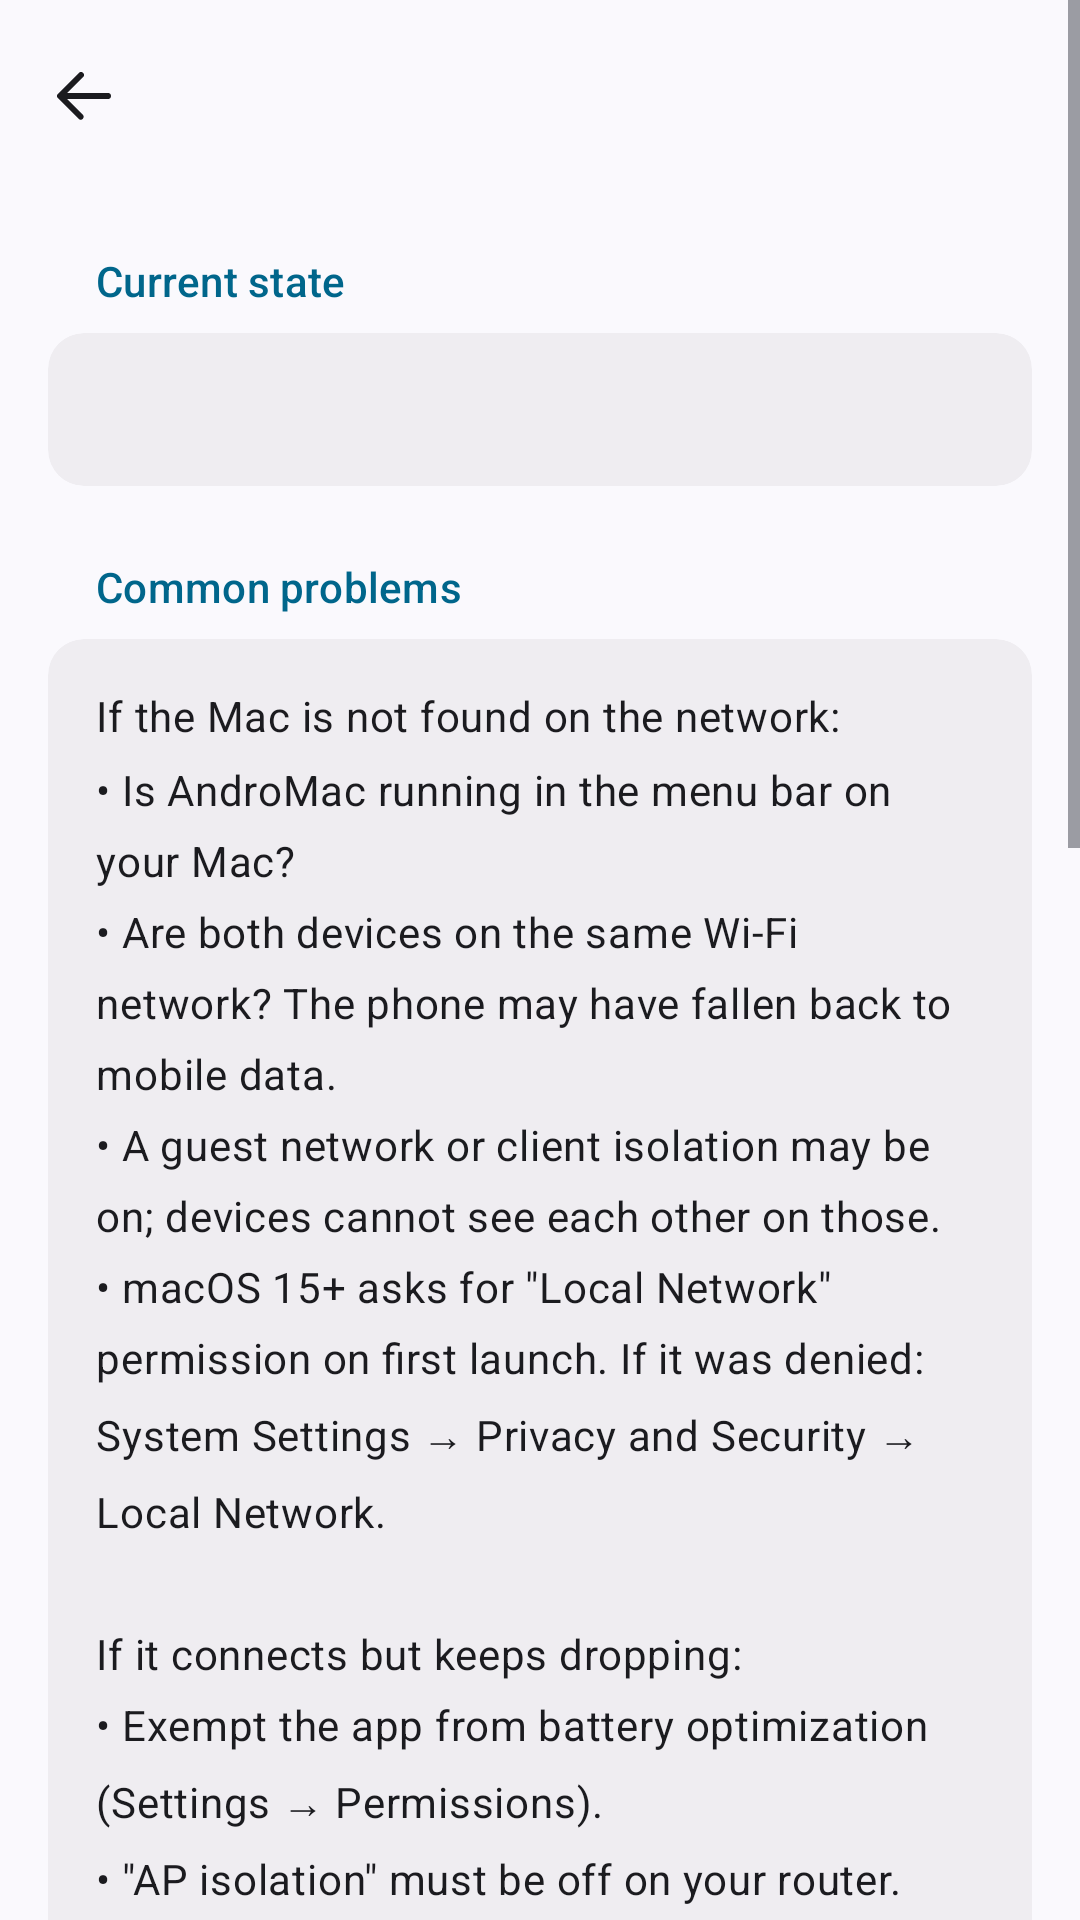

Point at icon controls on the screen. Image size 1080×1920, points as [x,y].
Back: [84,96]
